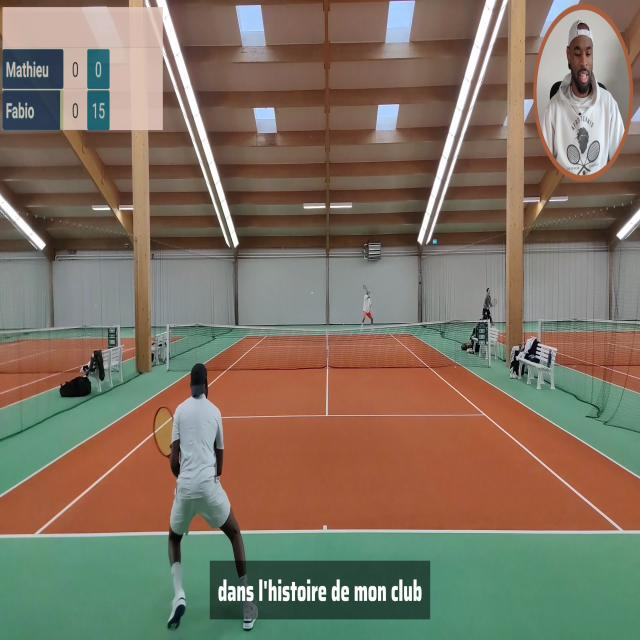ball: (311, 292, 313, 294), (344, 323, 344, 325)
